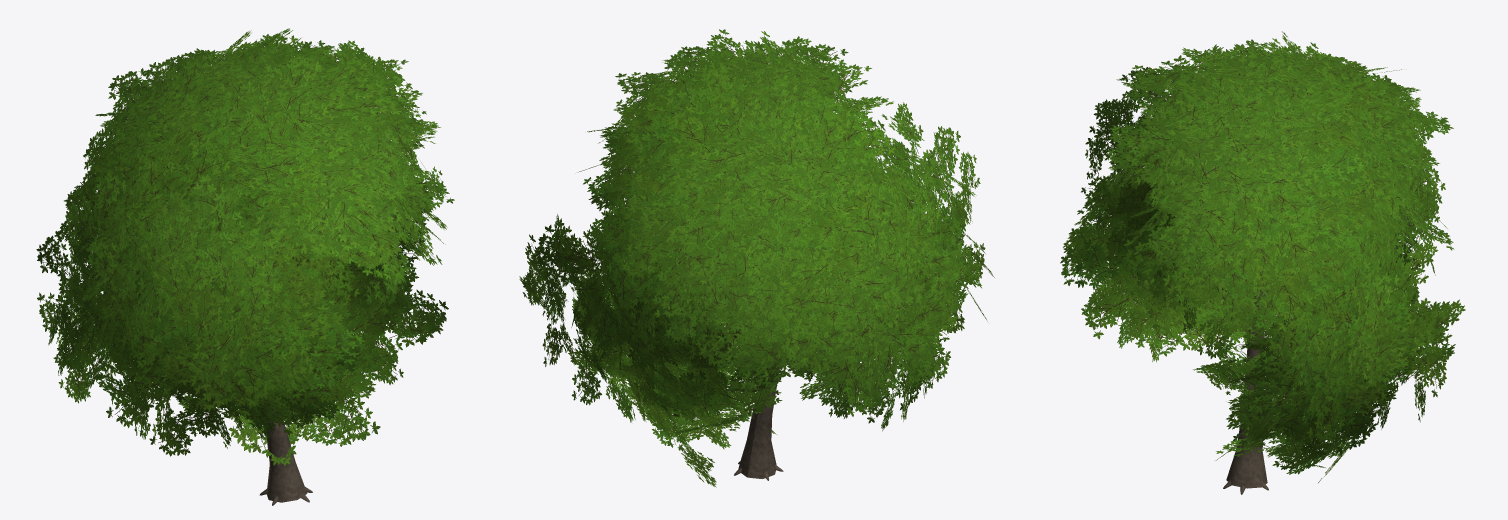
File: tree_maple.glb
The picture shows the model from 3 angles, left to right: view 1: azimuth 30°, elevation 25°; view 2: azimuth 150°, elevation 25°; view 3: azimuth 270°, elevation 25°; orthographic projection. The views are drawn at different scales.
Parts seen in each view (by area): view 1: tree_maple; view 2: tree_maple; view 3: tree_maple.
Boxes of the visible parts, <box> form: tree_maple: <box>36,28,454,505</box>; tree_maple: <box>519,29,994,487</box>; tree_maple: <box>1060,31,1465,494</box>.
Size of the model in its own units: 14.88 by 15.08 by 13.33.
2 materials, 2 textured.
